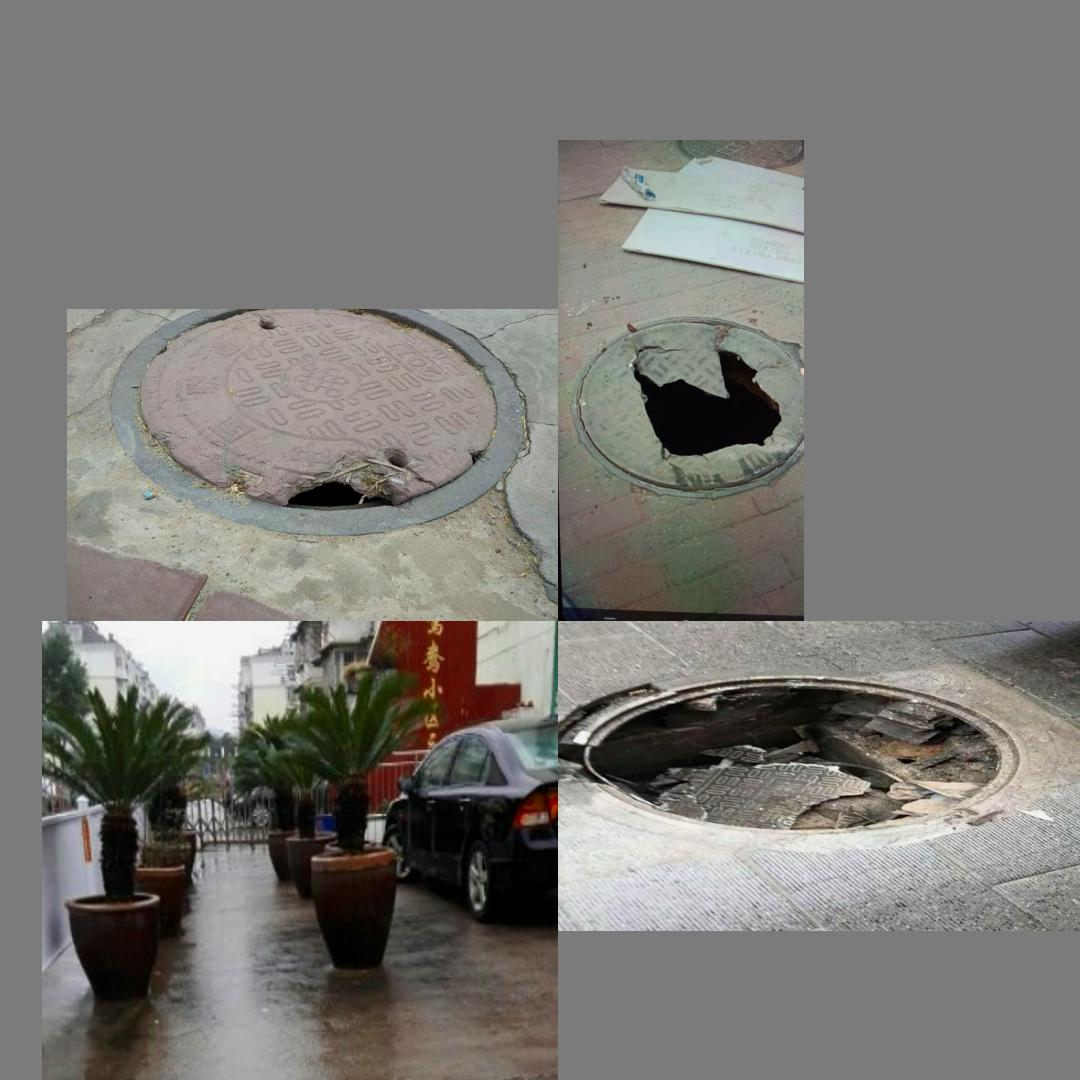broke: (117, 310, 529, 532), (566, 669, 1023, 849), (571, 316, 803, 499)
